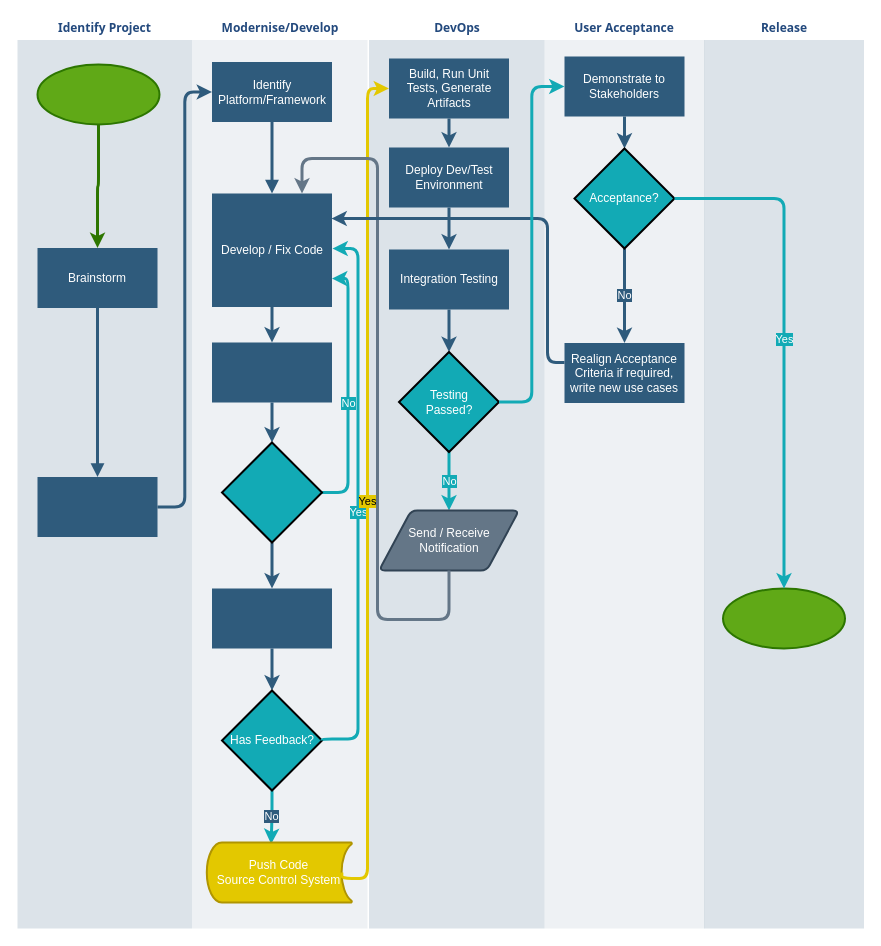
This 881x946 diagram has some shape labels left out. Each missing label, with the box of its shape:
Commit Code for Code Review: (212, 588, 332, 648)
Identify Candidate Project: (37, 476, 157, 536)
Meet Stakeholders: (36, 63, 160, 125)
Release LIVE: (722, 587, 846, 649)
Unit Test Pass?: (220, 441, 322, 543)
Unit Tests: (212, 342, 332, 402)
